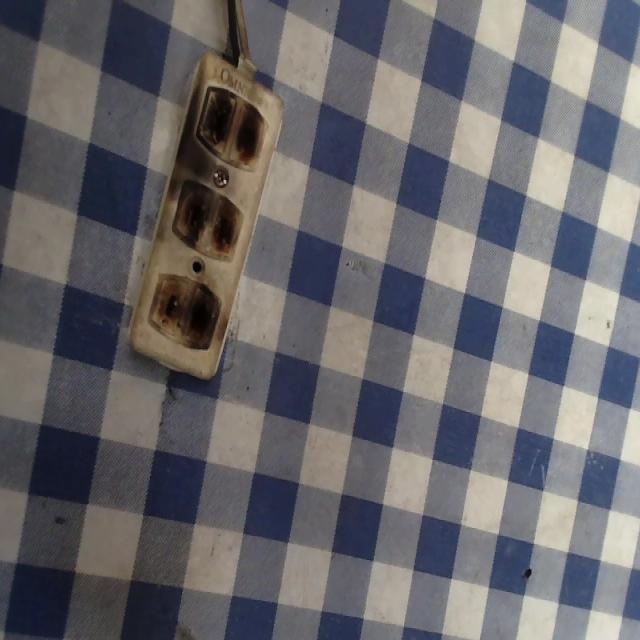-: (193, 74, 273, 170), (147, 272, 233, 355), (165, 179, 246, 257)
